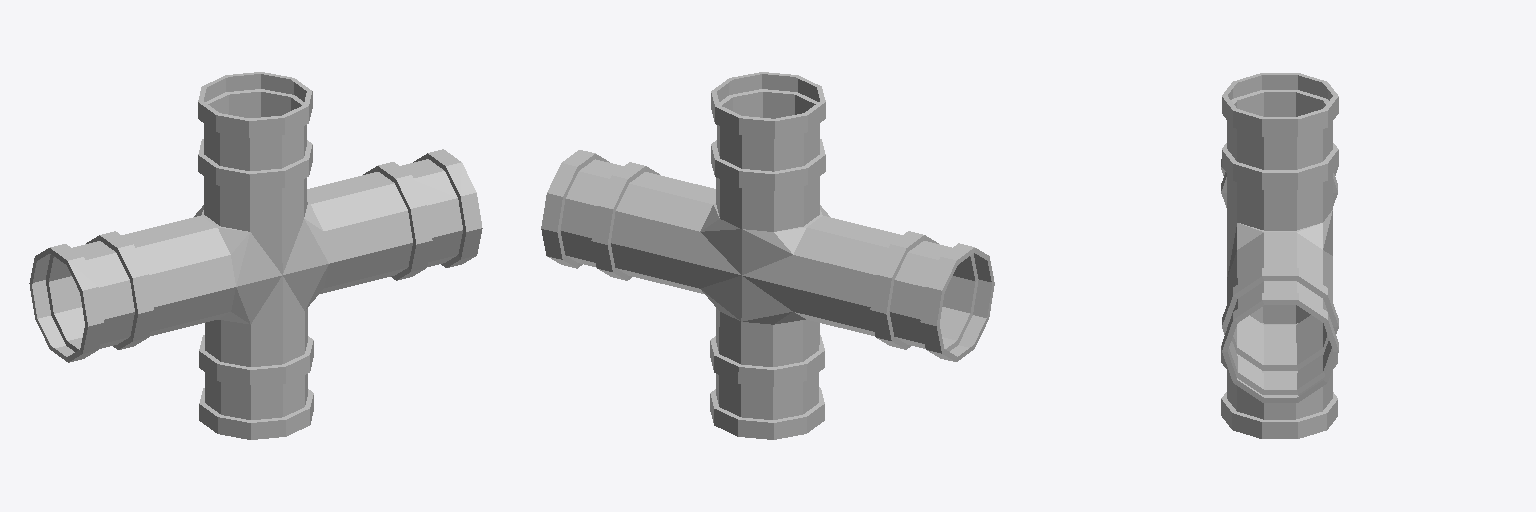
File: Pipe_Cr.obj
3 views of the same model, side by side, from view 1: azimuth 30°, elevation 25°; view 2: azimuth 150°, elevation 25°; view 3: azimuth 270°, elevation 25° (orthographic).
Visible parts, largest first — view 1: Pipe_Cr_Pipe_cr; view 2: Pipe_Cr_Pipe_cr; view 3: Pipe_Cr_Pipe_cr.
Part boxes in pixels (bbox=[...]): Pipe_Cr_Pipe_cr: bbox=[29, 72, 482, 439]; Pipe_Cr_Pipe_cr: bbox=[541, 72, 994, 439]; Pipe_Cr_Pipe_cr: bbox=[1221, 73, 1338, 438].
Bounding box in the file's own units: 1.74 × 1.35 × 0.4507.